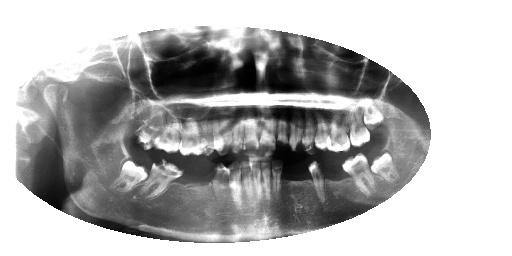i10healthy: (241, 161, 251, 199)
i11decay: (228, 160, 242, 210)
i12decay: (213, 162, 231, 212)
i13loss: (198, 164, 214, 201)
i14loss: (182, 167, 197, 205)
i15healthy: (143, 160, 185, 200)
i16healthy: (109, 159, 148, 197)
i1healthy: (369, 152, 402, 183)
i2healthy: (341, 153, 376, 197)
i3loss: (325, 164, 342, 196)
i4decay: (306, 161, 324, 205)
i5loss: (294, 166, 308, 203)
i6loss: (282, 165, 295, 206)
i7decay: (271, 160, 284, 202)
i8decay: (260, 157, 271, 207)
i9healthy: (248, 156, 262, 206)
u10decay: (231, 108, 244, 153)
u11decay: (216, 108, 231, 156)
u12decay: (202, 108, 218, 158)
u13healthy: (180, 111, 203, 156)
u14healthy: (157, 112, 179, 153)
u15healthy: (138, 111, 156, 148)
u16loss: (124, 120, 139, 145)
u1healthy: (361, 103, 383, 129)
u2healthy: (350, 107, 371, 147)
u3healthy: (330, 107, 350, 150)
u4healthy: (314, 109, 329, 151)
u5decay: (304, 110, 318, 154)
u6chipped: (287, 106, 305, 150)
u7decay: (277, 108, 287, 150)
u8decay: (262, 107, 275, 152)
u9decay: (244, 108, 259, 153)
